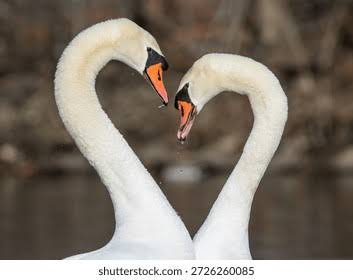swan: (50, 11, 194, 261), (173, 46, 293, 262)
